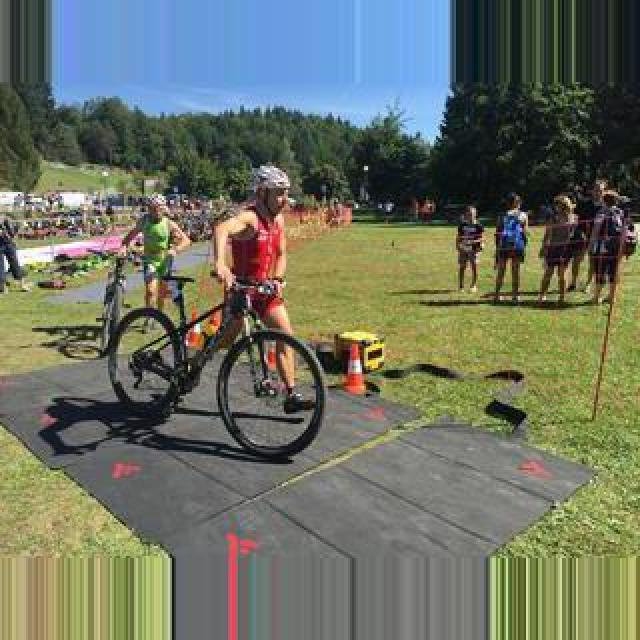MC-Bike: (204, 162, 302, 424), (122, 198, 190, 318), (588, 184, 630, 302), (536, 194, 580, 306), (490, 192, 528, 304), (454, 204, 486, 292)
Person: (98, 246, 324, 462)
